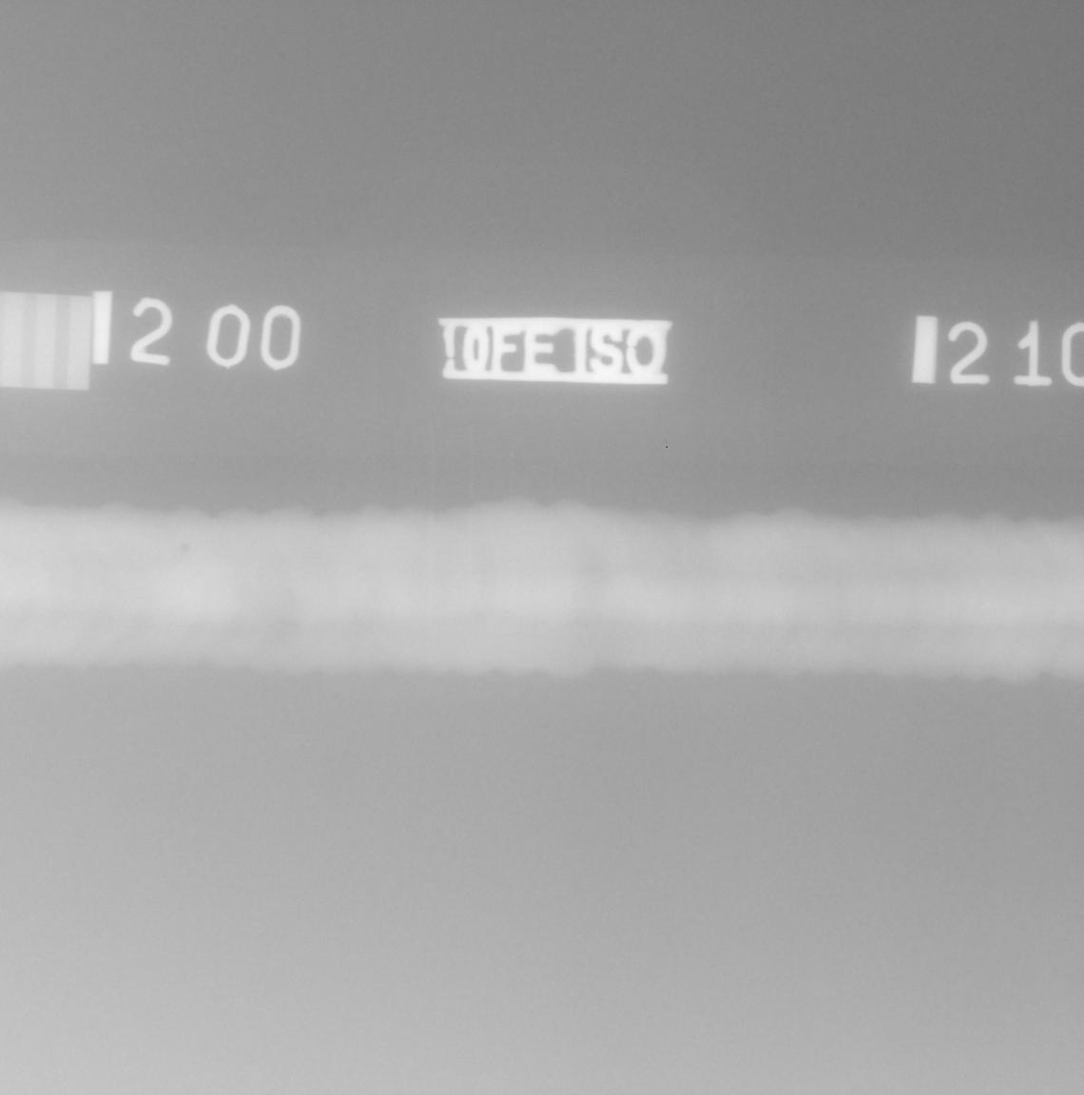Pore/Porosity: (179, 542, 191, 554)
